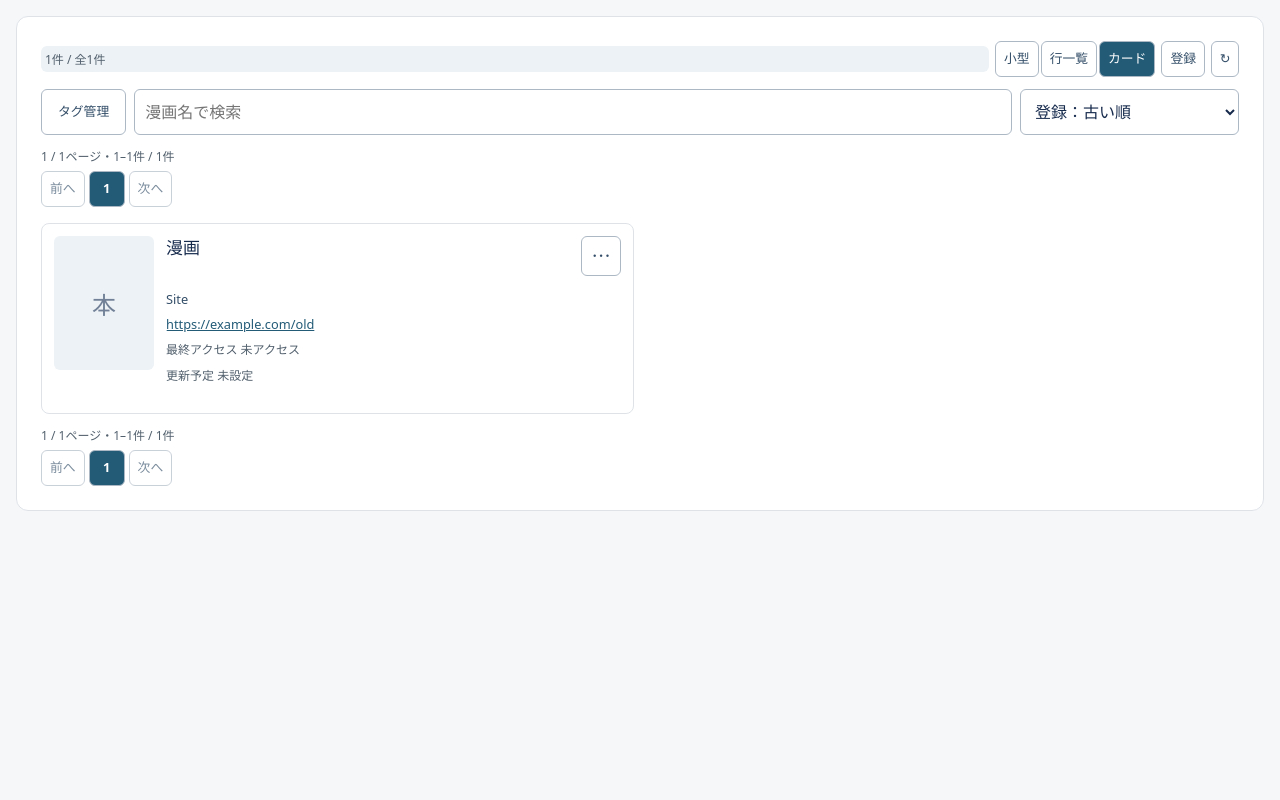
テキストと予定日を一度送信し、保存中はキャンセルとEsc・連打で閉じない
The image size is (1280, 800).
Expected: the heading "漫画" is shown, [166,236,200,259]
Click the button named "漫画の作品操作" at x=601, y=256, box [581,236,621,276]
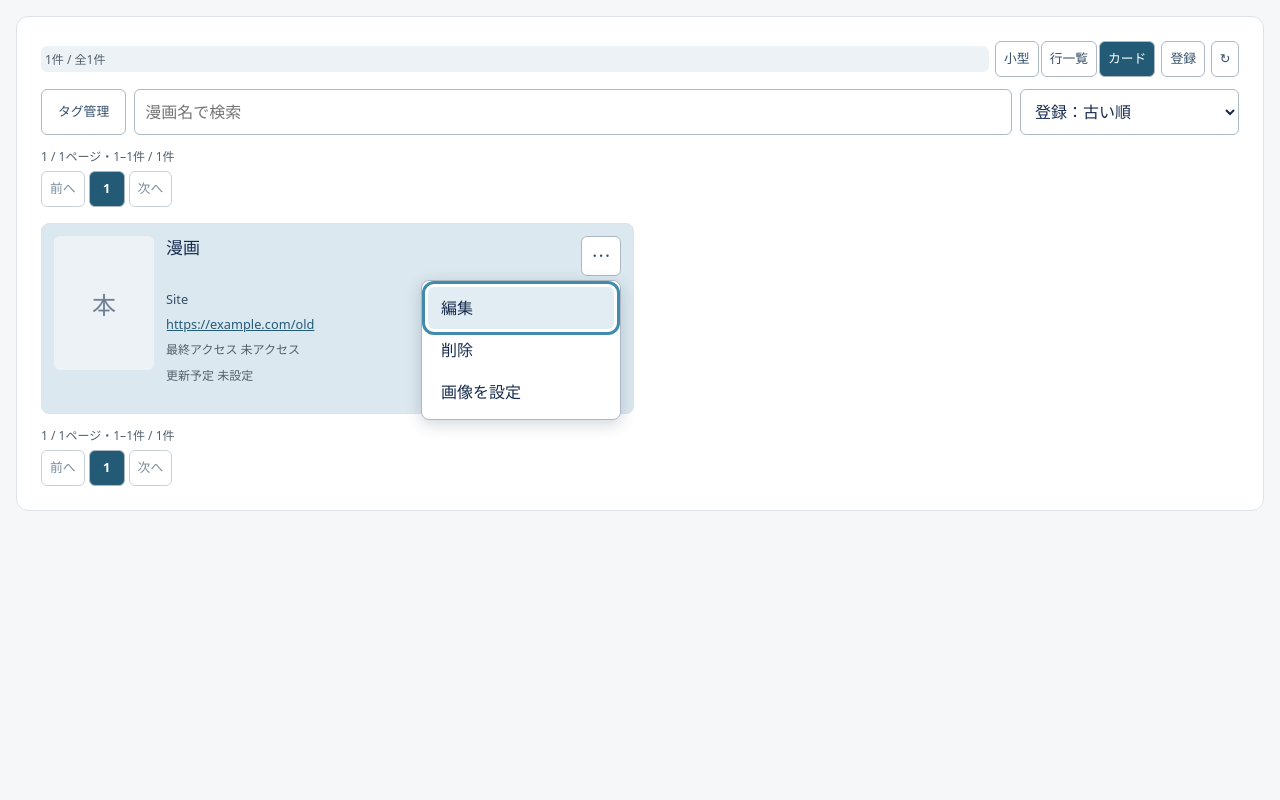
Click the button with aria-label "漫画を編集" at x=521, y=308, box [428,287,614,329]
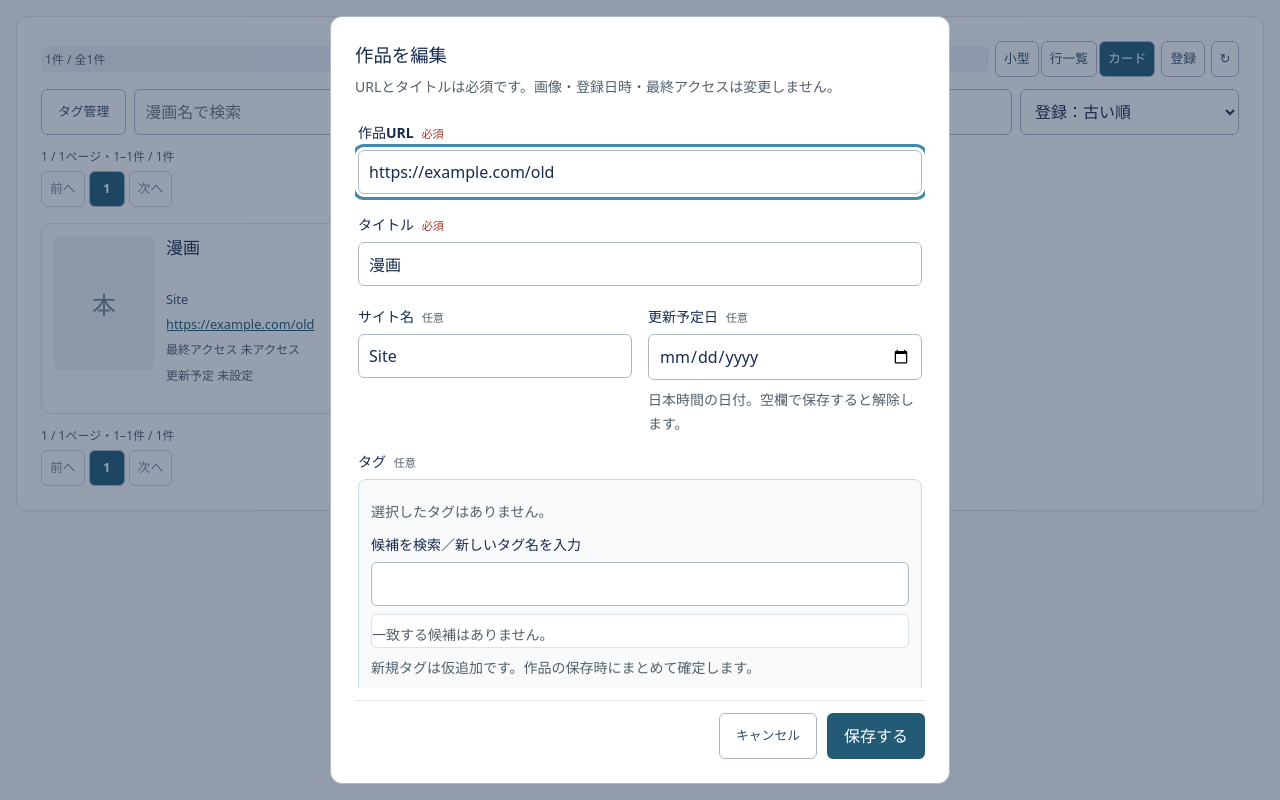
Submit the form, box [355,119,925,759]
Submit the form, box [355,119,925,759]
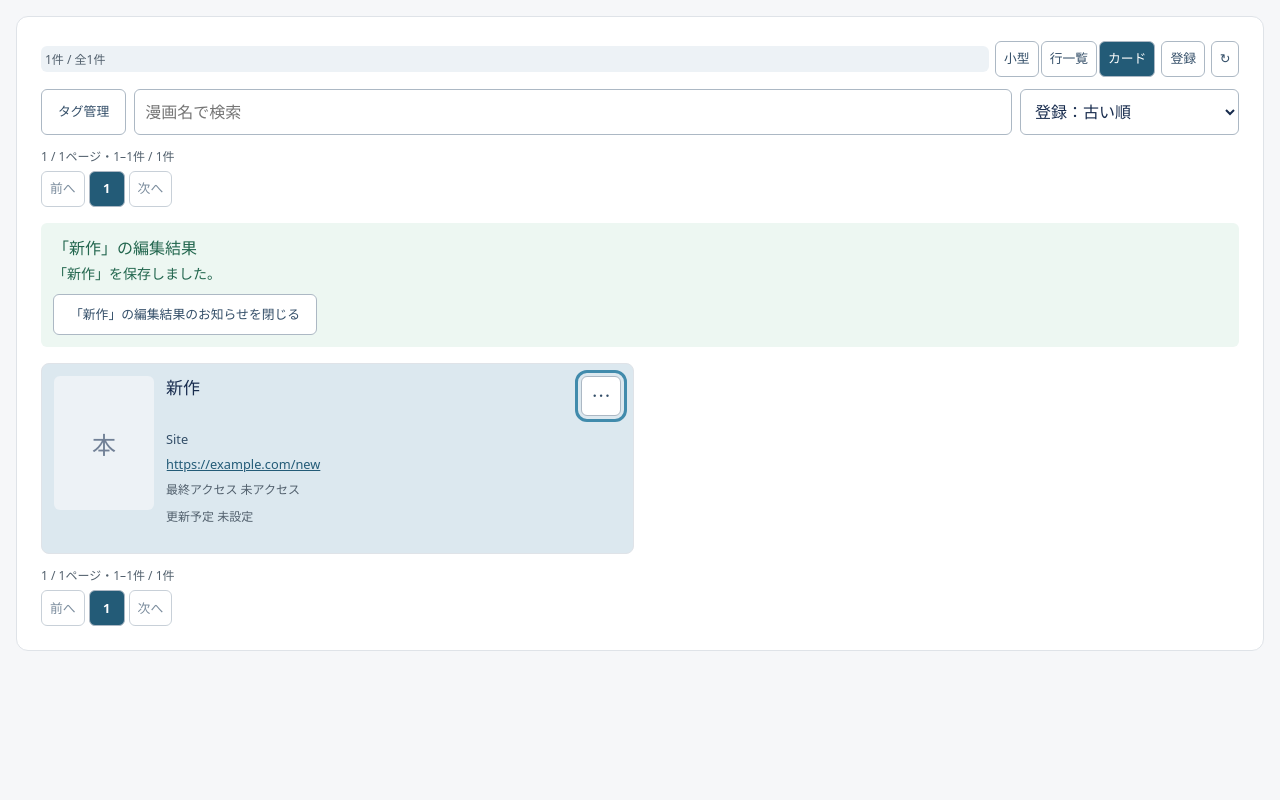
Now the dialog is gone
Now the heading "新作" is shown, box [166,376,200,399]
